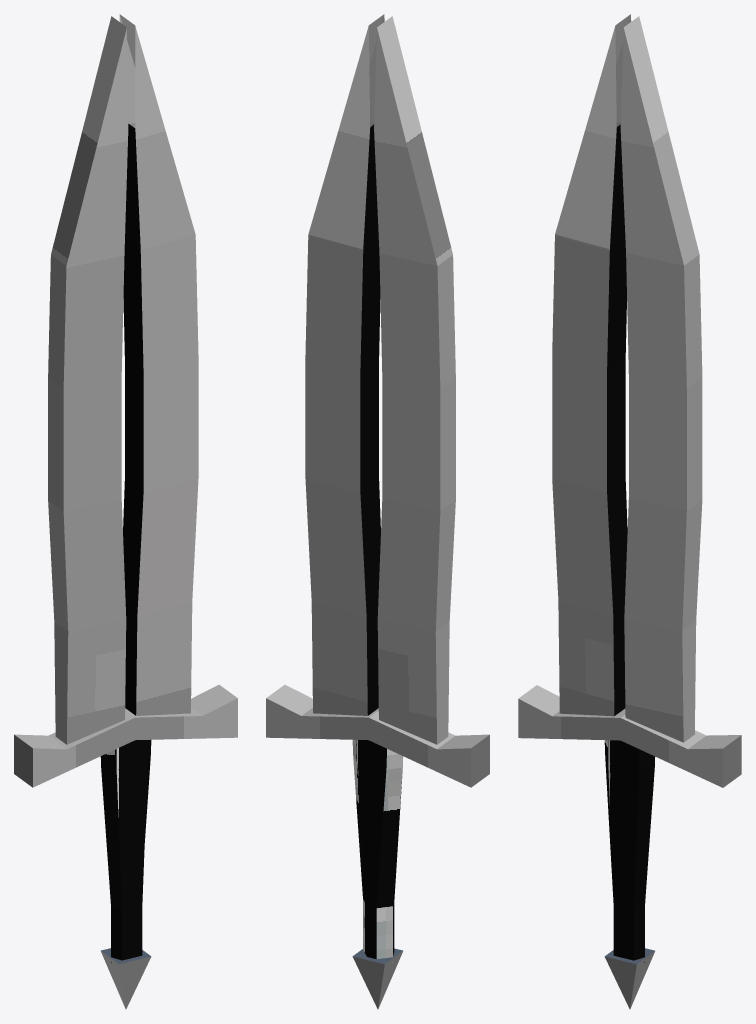
The model's file is SWORD_2.obj.
3 views of the same model, side by side, from view 1: azimuth 30°, elevation 25°; view 2: azimuth 150°, elevation 25°; view 3: azimuth 330°, elevation 25° (orthographic).
Visible parts, largest first — view 1: L, R, handle, hilt, pyramid; view 2: L, R, handle, hilt, pyramid; view 3: R, L, handle, hilt, pyramid.
Part boxes in pixels (x1=…): L: x1=48, y1=16, x2=128, y2=744; R: x1=119, y1=14, x2=198, y2=715; handle: x1=100, y1=739, x2=151, y2=962; hilt: x1=14, y1=684, x2=237, y2=787; pyramid: x1=101, y1=948, x2=151, y2=1009; L: x1=374, y1=16, x2=455, y2=744; R: x1=305, y1=14, x2=384, y2=715; handle: x1=352, y1=739, x2=403, y2=962; hilt: x1=266, y1=684, x2=489, y2=787; pyramid: x1=352, y1=948, x2=402, y2=1009; R: x1=620, y1=16, x2=702, y2=742; L: x1=552, y1=14, x2=631, y2=716; handle: x1=604, y1=740, x2=654, y2=962; hilt: x1=518, y1=685, x2=741, y2=787; pyramid: x1=604, y1=948, x2=654, y2=1009.
Bounding box in the file's own units: 0.2375 × 1.1 × 0.0375.
5 materials, 5 textured.
